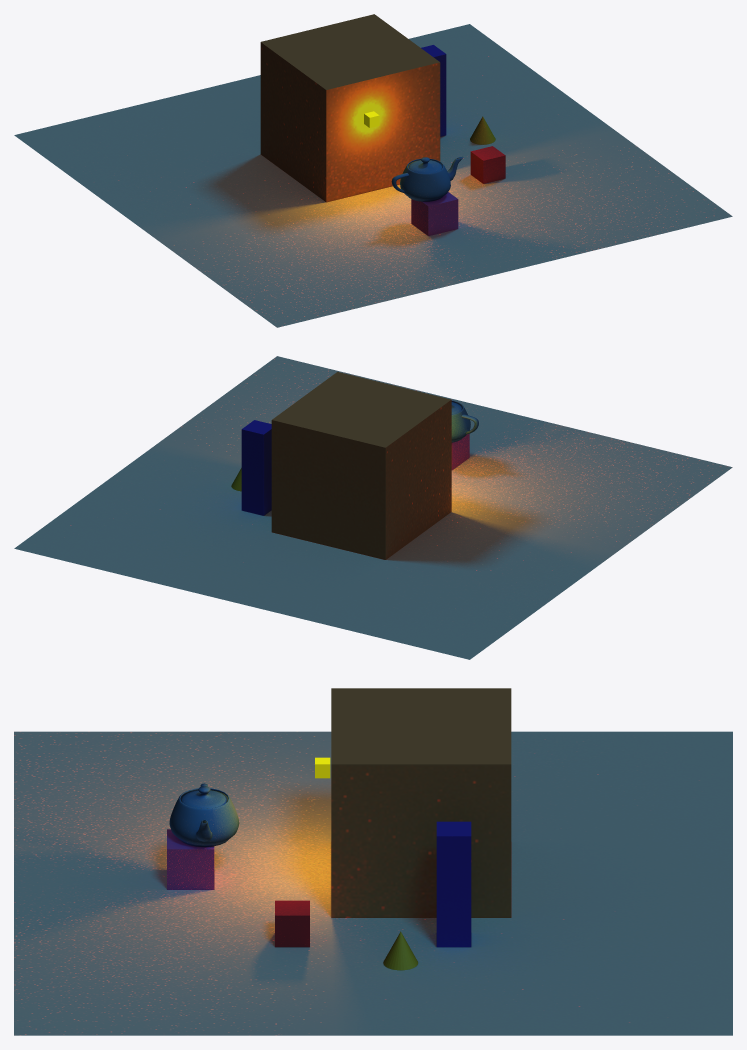
The model's file is Textbake.glb.
3 renders of one model, top to bottom at view 1: azimuth 30°, elevation 25°; view 2: azimuth 150°, elevation 25°; view 3: azimuth 270°, elevation 25°, orthographic. The views are drawn at different scales.
Parts seen in each view (by area): view 1: Escenario; view 2: Escenario; view 3: Escenario.
Boxes of the visible parts, <box> form: Escenario: <box>14,14,732,327</box>; Escenario: <box>14,356,732,659</box>; Escenario: <box>14,688,732,1035</box>.
Bounding box in the file's own units: 41.18 × 10.3 × 41.18.
Materials: 1 (1 with a texture image).
